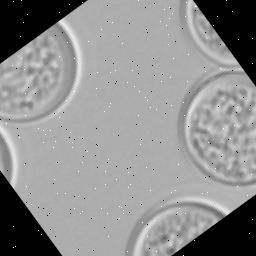picoshell: (178, 66, 256, 186), (0, 17, 83, 124), (126, 193, 230, 256), (180, 0, 239, 64), (0, 123, 18, 186)
